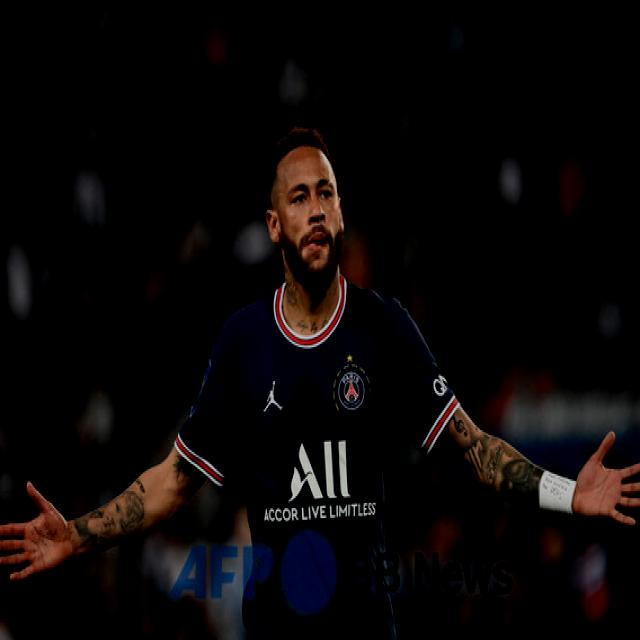neymar: (264, 128, 345, 290)
